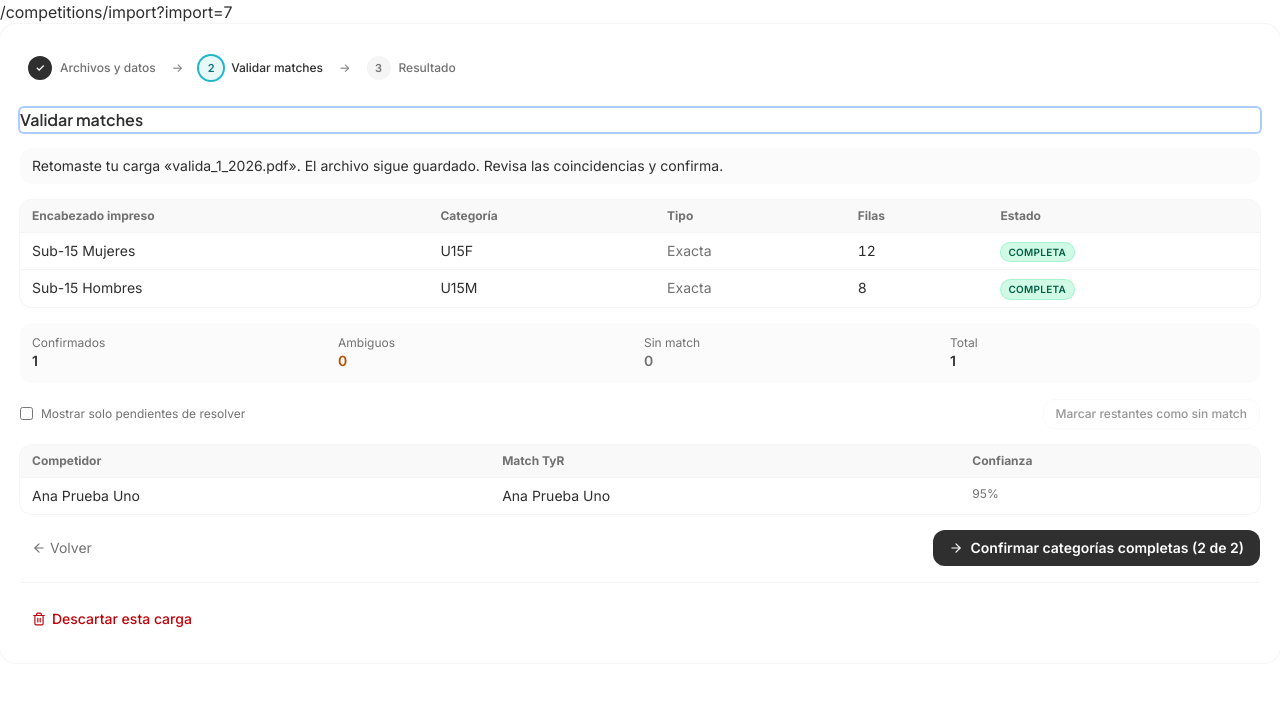
Test: ImportWizard — retomar una carga (feature 045, US3) › descartar: cancelar el diálogo conserva la carga
Step 1. Click the button with test id "wizard-discard" → click(112, 619), box [20,595,204,643]
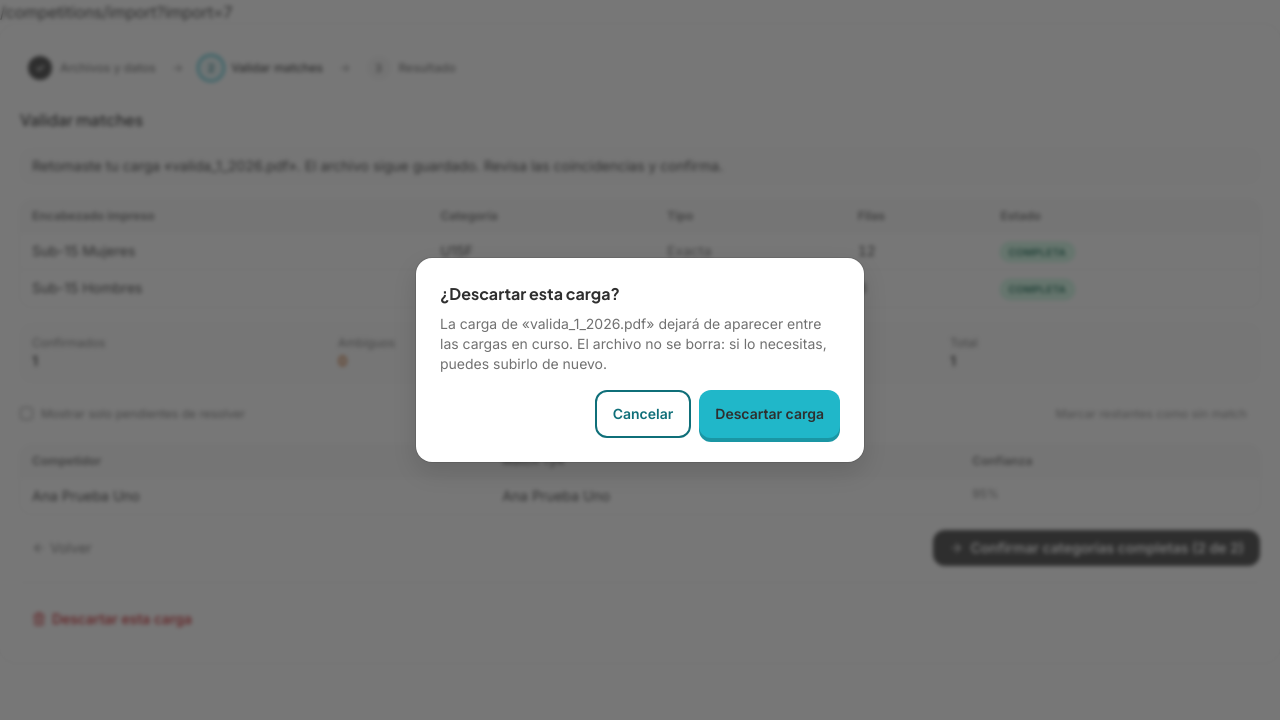
Step 2. Click the button "Cancelar" → click(643, 414), box [595,390,691,438]
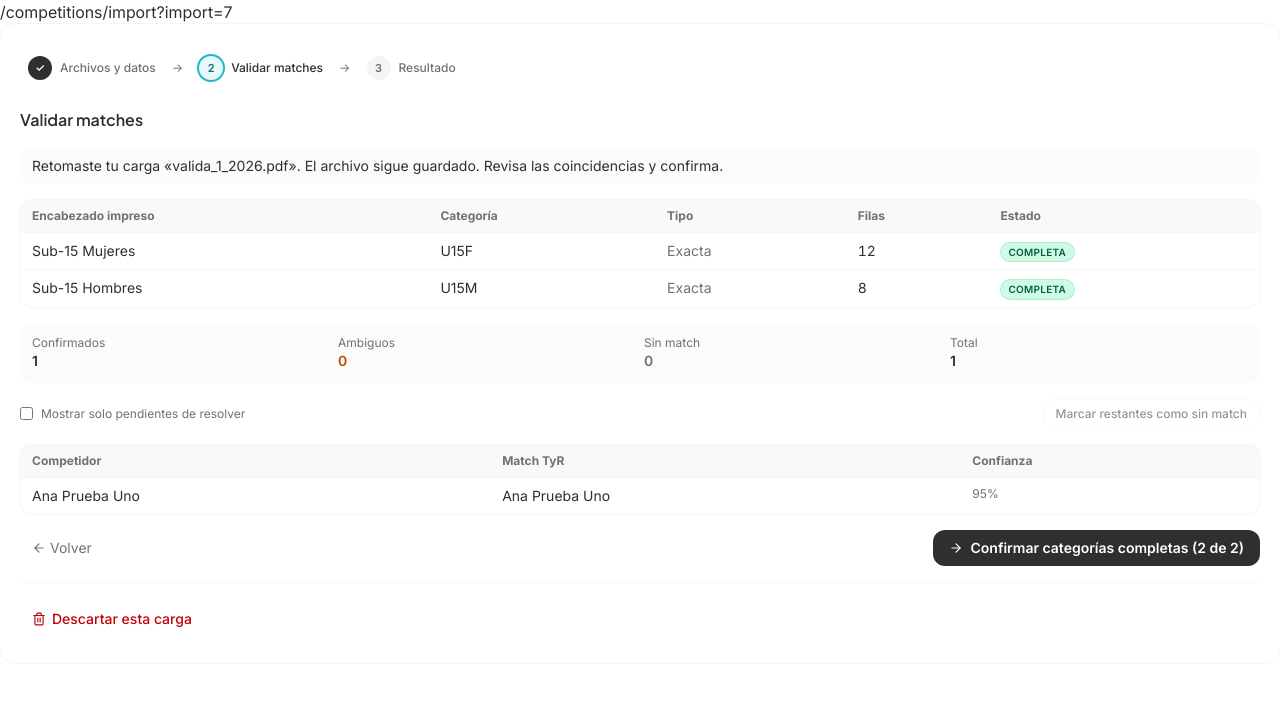
Expected: the text with test id "loc" shows "import=7", [156,2,233,22]
Now the dialog with test id "discard-import-dialog" is gone
